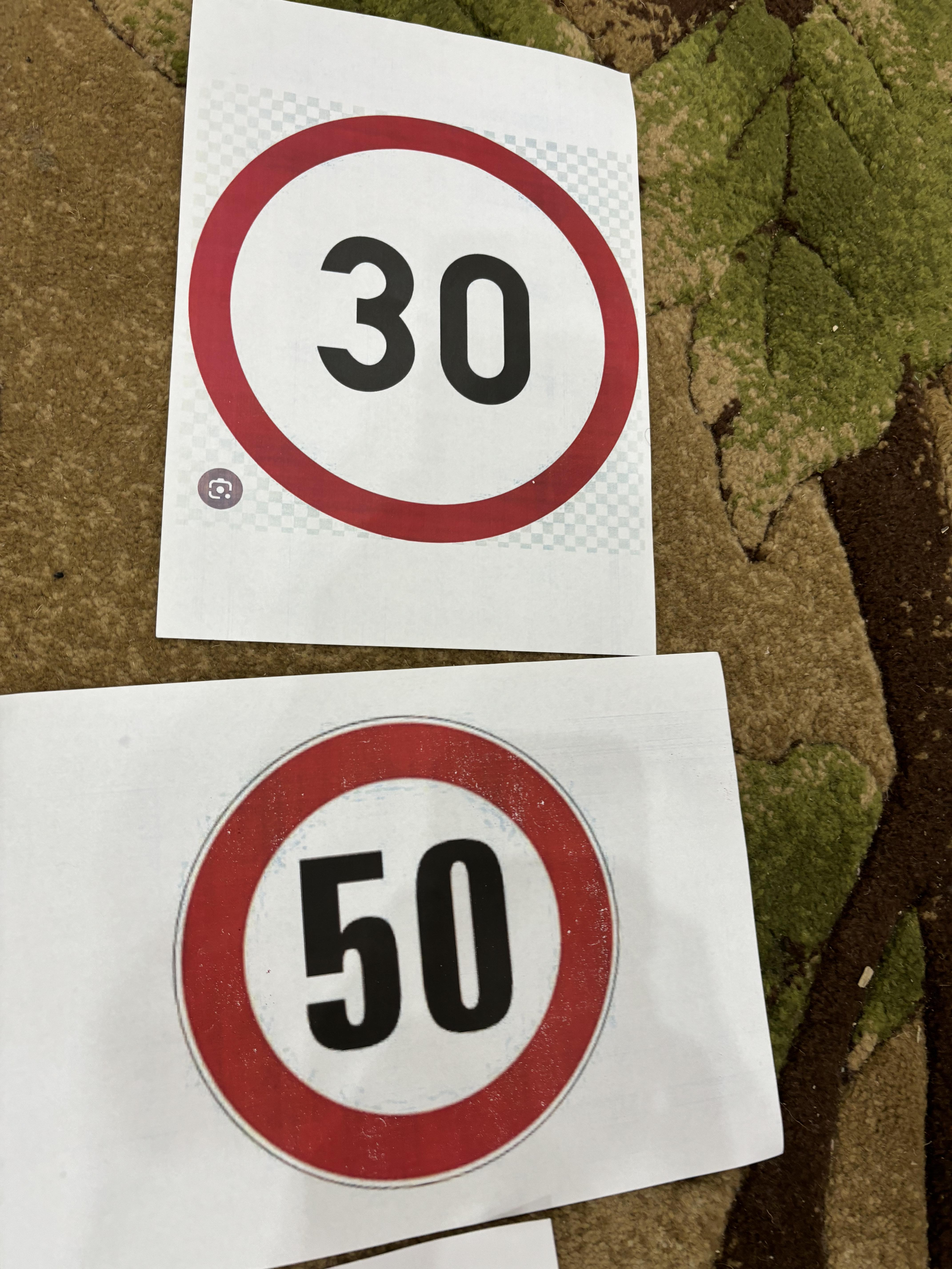30-speed: (187, 96, 632, 525)
50-Speed: (156, 700, 639, 1187)
